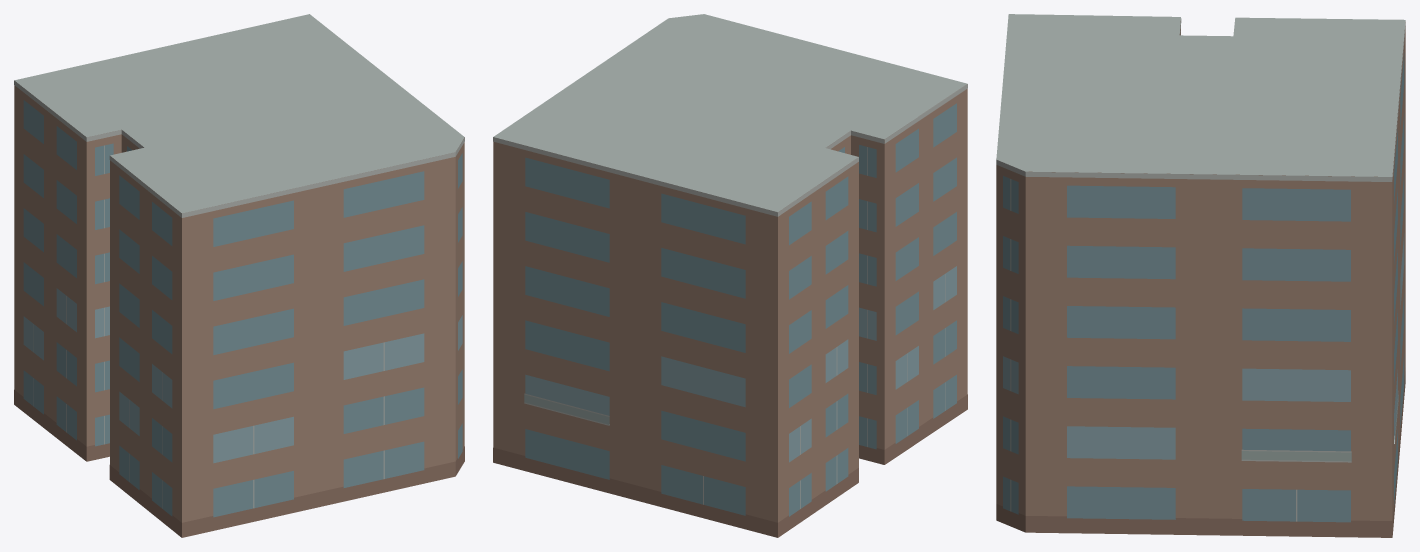
File: survey-upis-32918251.glb
The picture shows the model from 3 angles, left to right: view 1: azimuth 30°, elevation 25°; view 2: azimuth 150°, elevation 25°; view 3: azimuth 270°, elevation 25°; orthographic projection. The views are drawn at different scales.
Visible parts, largest first — view 1: survey-upis-32918251.tmp; view 2: survey-upis-32918251.tmp; view 3: survey-upis-32918251.tmp.
Boxes of the visible parts, bbox=[...] form: survey-upis-32918251.tmp: bbox=[14, 14, 464, 537]; survey-upis-32918251.tmp: bbox=[493, 14, 967, 537]; survey-upis-32918251.tmp: bbox=[996, 14, 1405, 537].
Size of the model in its own units: 16.67 by 17.2 by 17.69.
